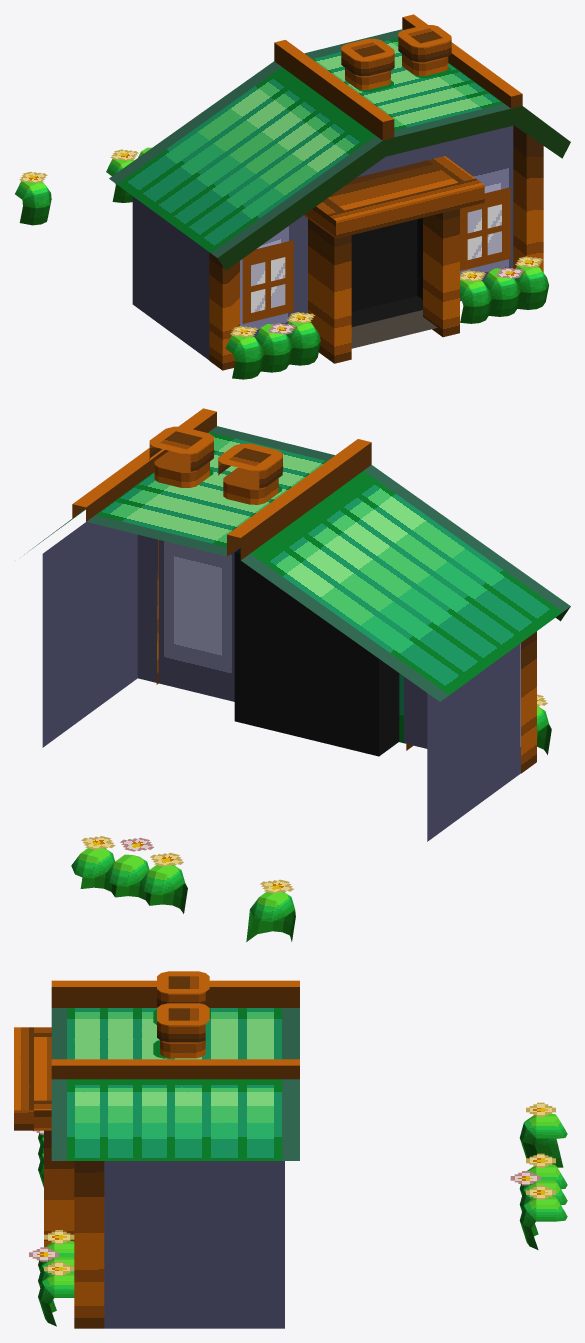
The model's file is school.glb.
3 views of the same model, one above another, from view 1: azimuth 30°, elevation 25°; view 2: azimuth 150°, elevation 25°; view 3: azimuth 270°, elevation 25° (orthographic). The views are drawn at different scales.
Parts seen in each view (by area): view 1: school; view 2: school; view 3: school.
Boxes of the visible parts, bbox=[...] form: school: bbox=[15, 14, 570, 379]; school: bbox=[24, 408, 570, 941]; school: bbox=[14, 971, 567, 1328].
Size of the model in its own units: 7.75 by 5.16 by 9.25.
3 materials, 3 textured.
